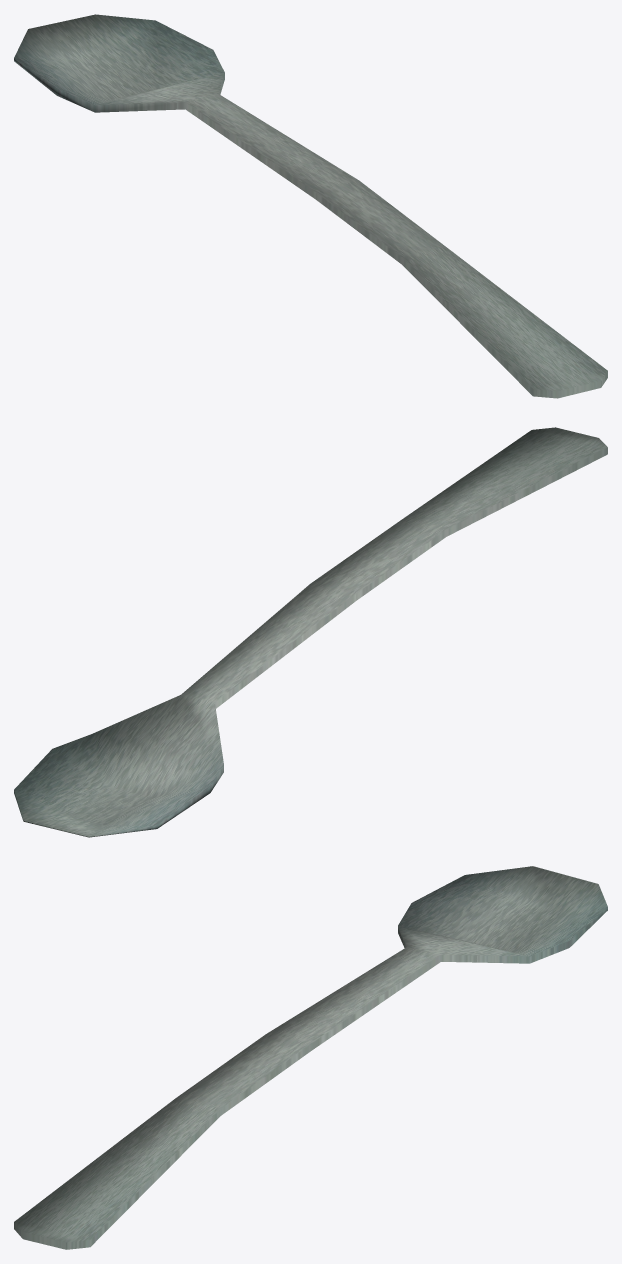
Rendered from spoon.obj.
3 views of the same model, one above another, from view 1: azimuth 30°, elevation 25°; view 2: azimuth 150°, elevation 25°; view 3: azimuth 330°, elevation 25° (orthographic).
Visible parts, largest first — view 1: EmptyMesh; view 2: EmptyMesh; view 3: EmptyMesh.
Boxes of the visible parts, x1,y1,x2,y2 form: EmptyMesh: (14,14,607,398); EmptyMesh: (14,427,607,837); EmptyMesh: (14,866,607,1249).
Size of the model in its own units: 0.1701 by 0.061 by 0.9738.
1 material, 1 textured.
